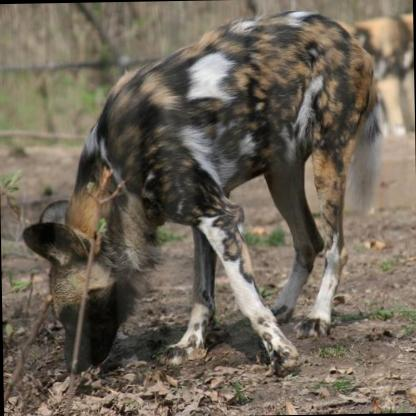African_hunting_dog: (13, 5, 380, 380)
